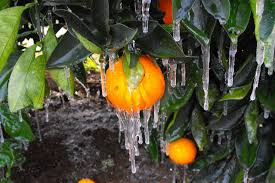orange: (100, 52, 170, 119), (165, 136, 200, 166)
